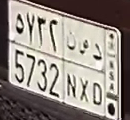2: (48, 18, 61, 100)
3: (37, 14, 48, 94)
5: (12, 12, 26, 84)
7: (25, 13, 36, 87)
D: (93, 40, 104, 109)
N: (66, 30, 79, 98)
X: (80, 37, 91, 105)
